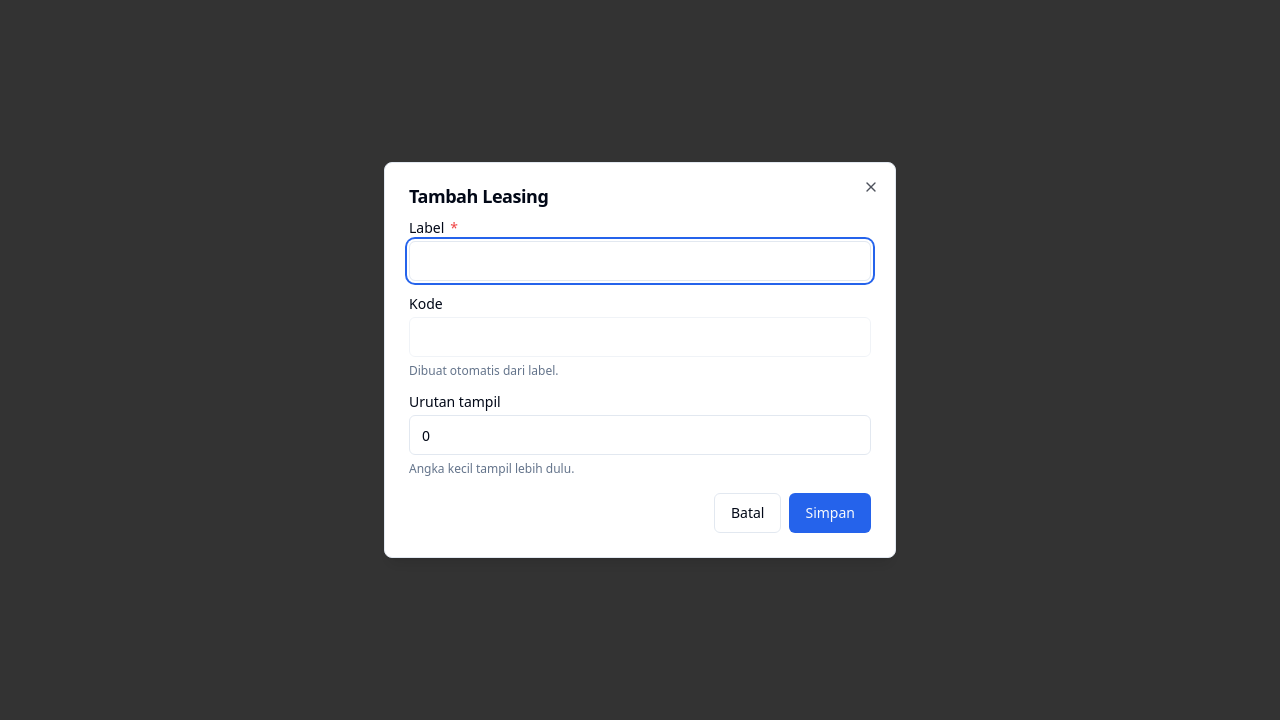
MasterDataFormDialog › rejects a label that slugifies to nothing
The width and height of the screenshot is (1280, 720).
Type "???" into the field labelled "Label *" at x=640, y=261, box [409, 241, 871, 281]
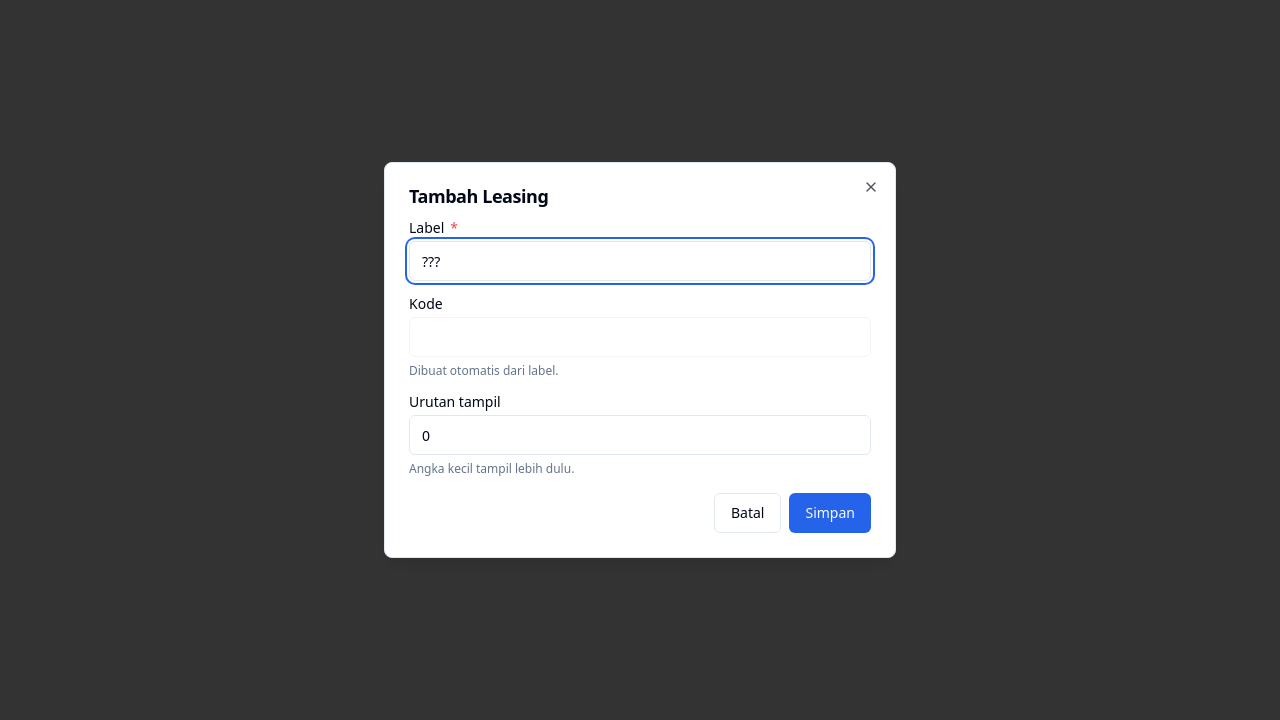
Click the button "Simpan" at x=830, y=513, box [790, 493, 871, 533]
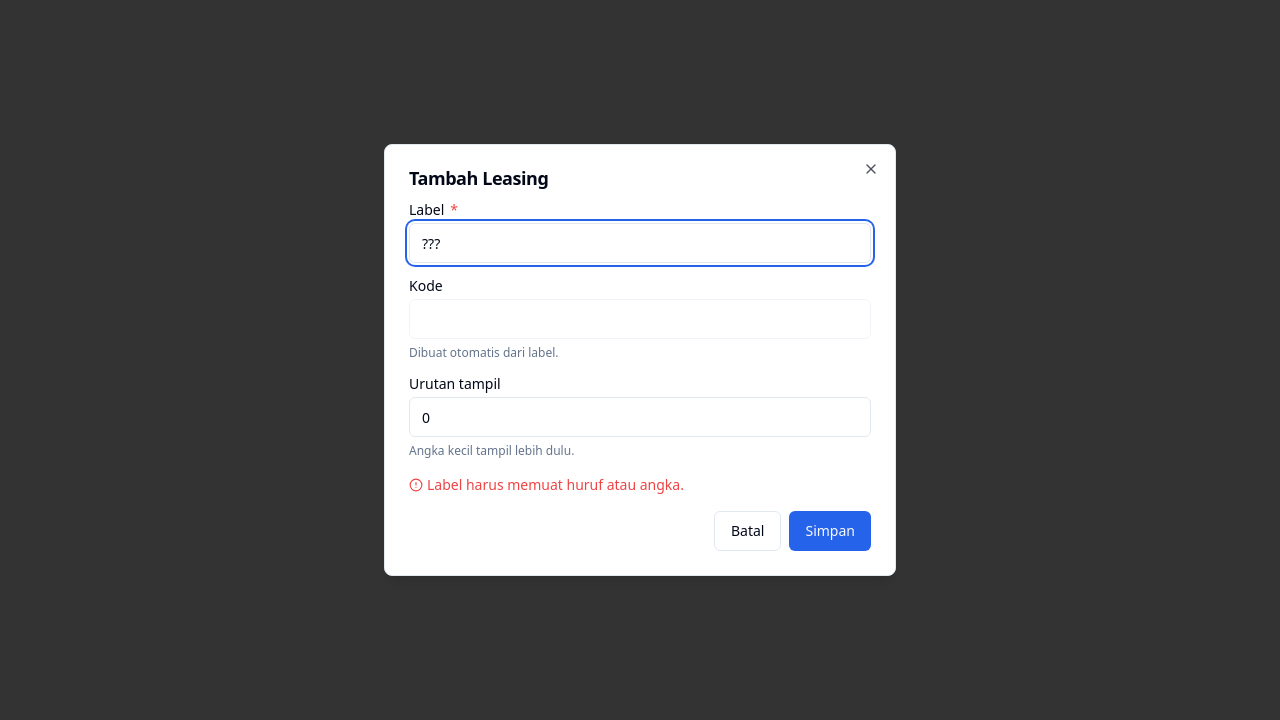
Expected: the text "Label harus memuat huruf atau angka." is shown, [409, 475, 684, 494]
